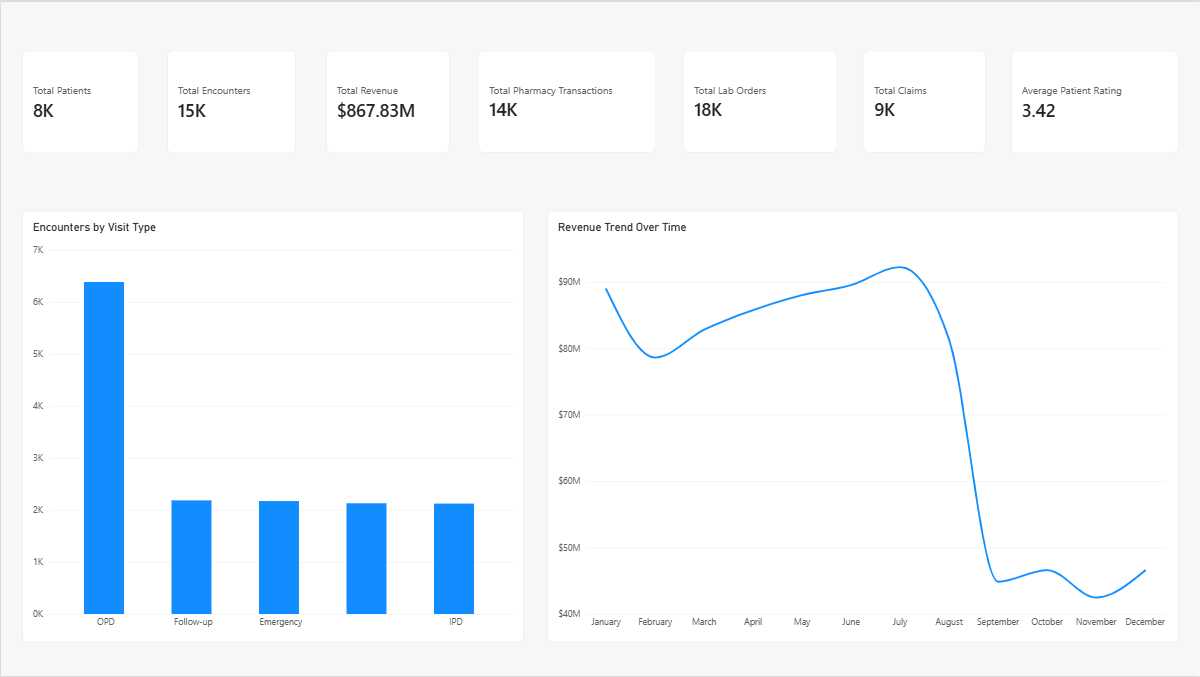

This screenshot's page, from the dashboard's own definition file:
{"tool":"powerbi","page":{"name":"Hospital Overview","canvas":[1920,1080],"ordinal":0},"visuals":[{"type":"cardVisual","fields":{"Data":["01_patients_cleaned.Total Patients"]},"box":[34,78,186,164],"z":0},{"type":"cardVisual","fields":{"Data":["05_encounters_cleaned.Total Encounters"]},"box":[266,78,206,164],"z":1000},{"type":"cardVisual","fields":{"Data":["06_billing_cleaned.Total Revenue"]},"box":[520,78,198,164],"z":2000},{"type":"cardVisual","fields":{"Data":["08_pharmacy_transactions_cleaned.Total Pharmacy Transactions"]},"box":[764,78,283,163],"z":3000},{"type":"cardVisual","fields":{"Data":["10_lab_orders_cleaned.Total Lab Orders"]},"box":[1092,78,246.7,163.3],"z":4000},{"type":"cardVisual","fields":{"Data":["11_insurance_claims_cleaned.Total Claims"]},"box":[1380,78,196.7,163.3],"z":5000},{"type":"cardVisual","fields":{"Data":["12_patient_feedback_cleaned.Average Patient Rating"]},"box":[1616,78,268,164],"z":6000},{"type":"clusteredColumnChart","title":"Encounters by Visit Type","fields":{"Y":["05_encounters_cleaned.Total Encounters"],"Category":["05_encounters_cleaned.Visit_Type"]},"box":[34,334,802,690],"z":7000},{"type":"lineChart","title":"Revenue Trend Over Time","fields":{"Category":["06_billing_cleaned.Bill_Date.Variation.Date Hierarchy.Month"],"Y":["06_billing_cleaned.Total Revenue"]},"box":[874,334,1010,690],"z":8000}]}

Visuals, with their boxes in screenshot pixels (x1, y1, x2, y2), scaled from the page's 1920x1080 canvas onto the 1200x677 screenshot:
cardVisual - 01_patients_cleaned.Total Patients: 21/49/138/152
cardVisual - 05_encounters_cleaned.Total Encounters: 166/49/295/152
cardVisual - 06_billing_cleaned.Total Revenue: 325/49/449/152
cardVisual - 08_pharmacy_transactions_cleaned.Total Pharmacy Transactions: 478/49/654/151
cardVisual - 10_lab_orders_cleaned.Total Lab Orders: 682/49/837/151
cardVisual - 11_insurance_claims_cleaned.Total Claims: 862/49/985/151
cardVisual - 12_patient_feedback_cleaned.Average Patient Rating: 1010/49/1178/152
"Encounters by Visit Type" clusteredColumnChart: 21/209/522/642
"Revenue Trend Over Time" lineChart: 546/209/1178/642
